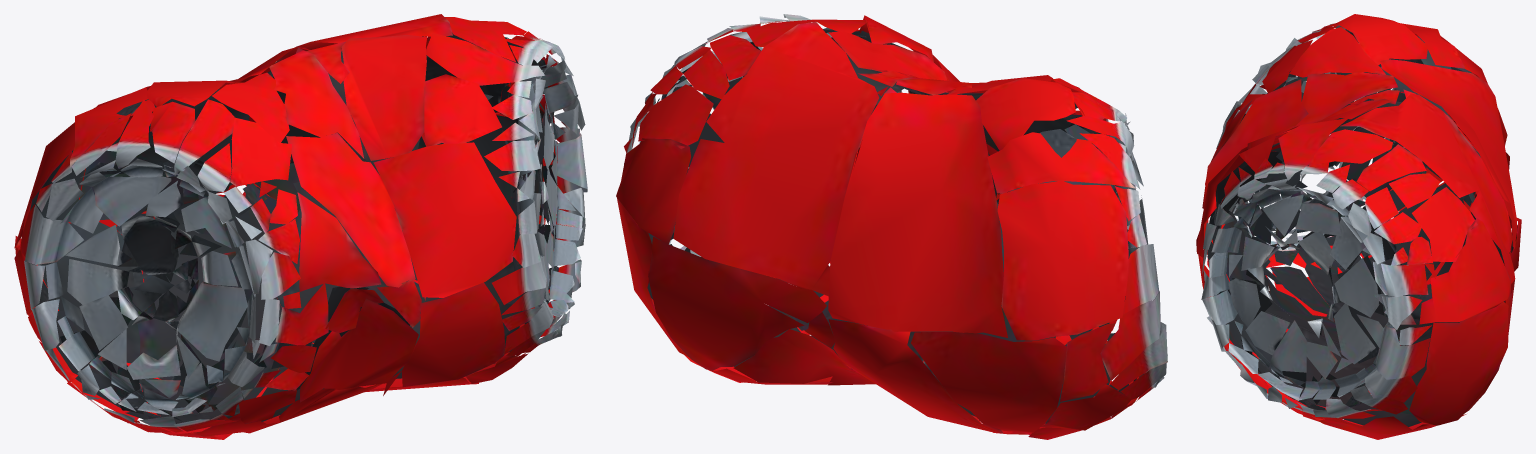
The model's file is waste-can.glb.
The picture shows the model from 3 angles, left to right: view 1: azimuth 30°, elevation 25°; view 2: azimuth 150°, elevation 25°; view 3: azimuth 270°, elevation 25°; orthographic projection. The views are drawn at different scales.
Visible parts, largest first — view 1: Mesh_0; view 2: Mesh_0; view 3: Mesh_0.
Part boxes in pixels (x1,y1,x2,y2): Mesh_0: (14,14,587,439); Mesh_0: (616,14,1167,439); Mesh_0: (1196,14,1521,439).
Size of the model in its own units: 1.88 by 1.15 by 1.12.
1 material, 1 textured.
